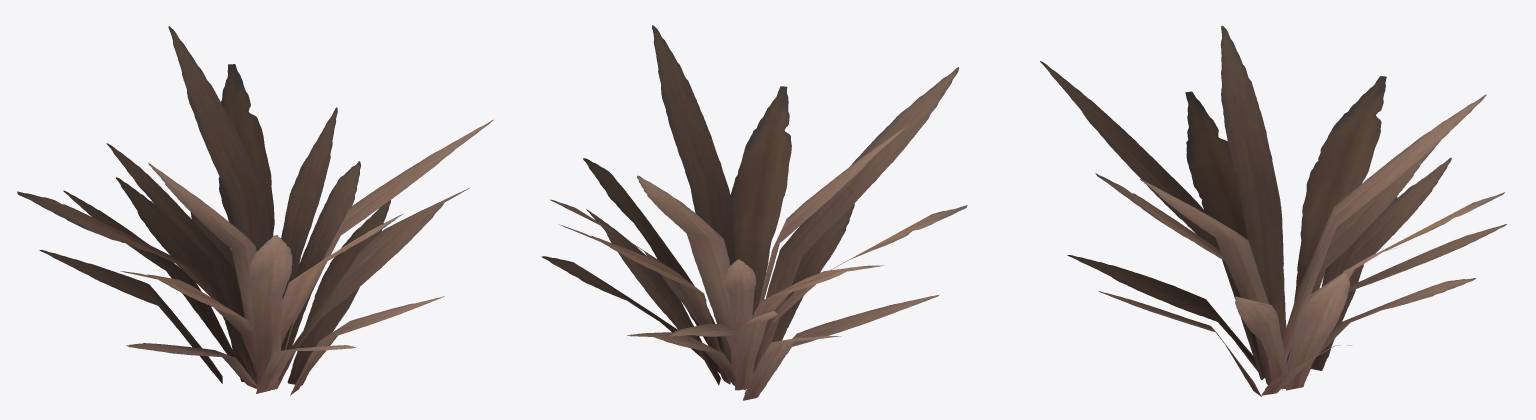
File: SM_Com_Gra_02AS.fbx
3 views of the same model, side by side, from view 1: azimuth 30°, elevation 25°; view 2: azimuth 150°, elevation 25°; view 3: azimuth 270°, elevation 25° (orthographic). The views are drawn at different scales.
Visible parts, largest first — view 1: SM_Com_Gra_02AS.mo; view 2: SM_Com_Gra_02AS.mo; view 3: SM_Com_Gra_02AS.mo.
Part boxes in pixels (<box>): SM_Com_Gra_02AS.mo: <box>17,26,493,395</box>; SM_Com_Gra_02AS.mo: <box>542,25,967,400</box>; SM_Com_Gra_02AS.mo: <box>1040,25,1506,396</box>.
Bounding box in the file's own units: 0.7811 × 0.5546 × 0.8333.
